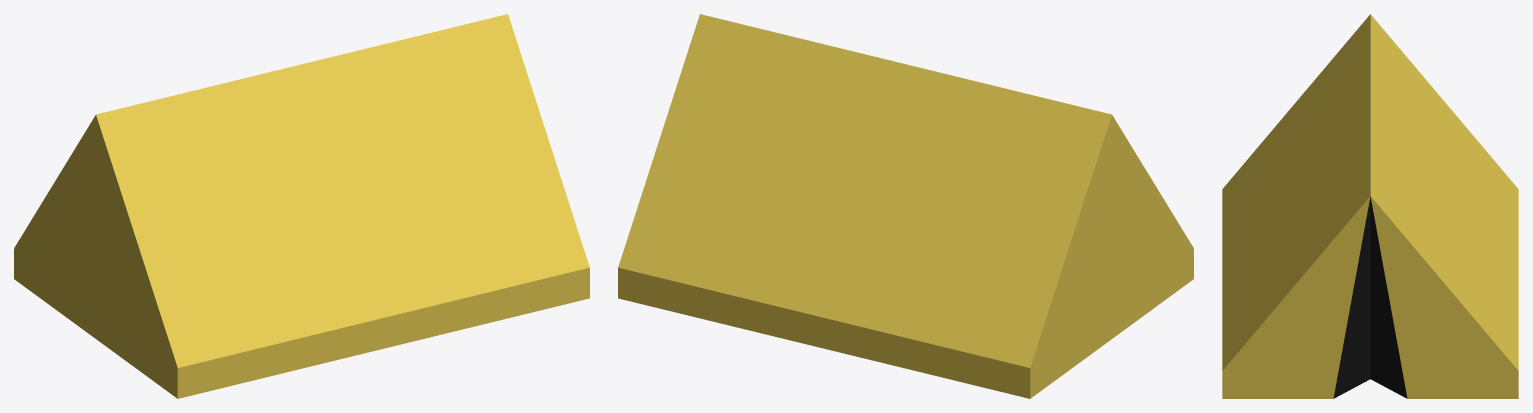
Rendered from Camp_TentUV.fbx.
3 views of the same model, side by side, from view 1: azimuth 30°, elevation 25°; view 2: azimuth 150°, elevation 25°; view 3: azimuth 270°, elevation 25° (orthographic). The views are drawn at different scales.
Visible parts, largest first — view 1: Cube; view 2: Cube; view 3: Cube.
Boxes of the visible parts, <box> form: Cube: <box>14,14,589,398</box>; Cube: <box>618,14,1193,398</box>; Cube: <box>1222,14,1518,398</box>.
Size of the model in its own units: 291 by 151 by 200.
